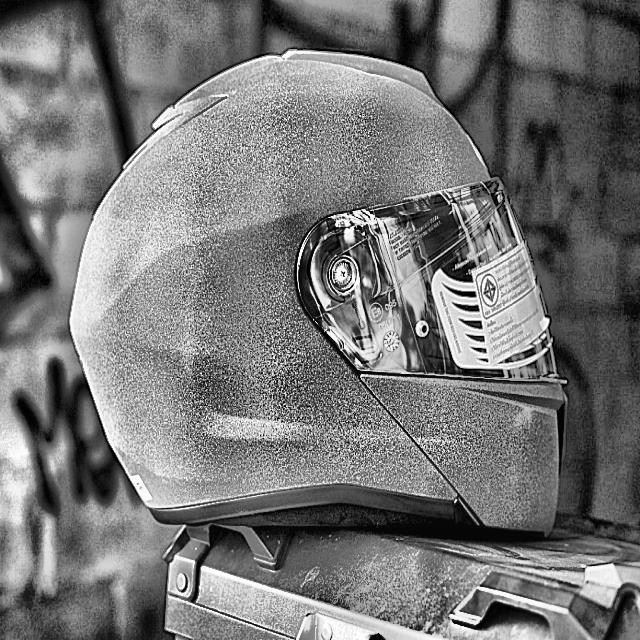Helmet: (68, 40, 587, 536)
